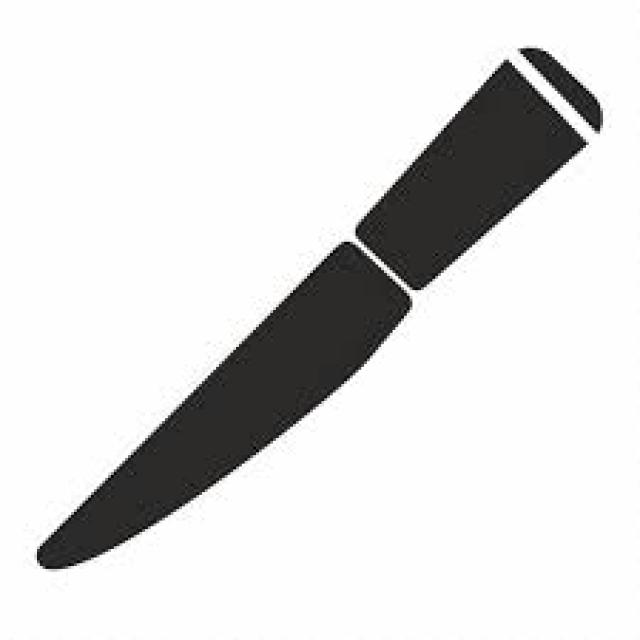Knife: (34, 43, 603, 569)
